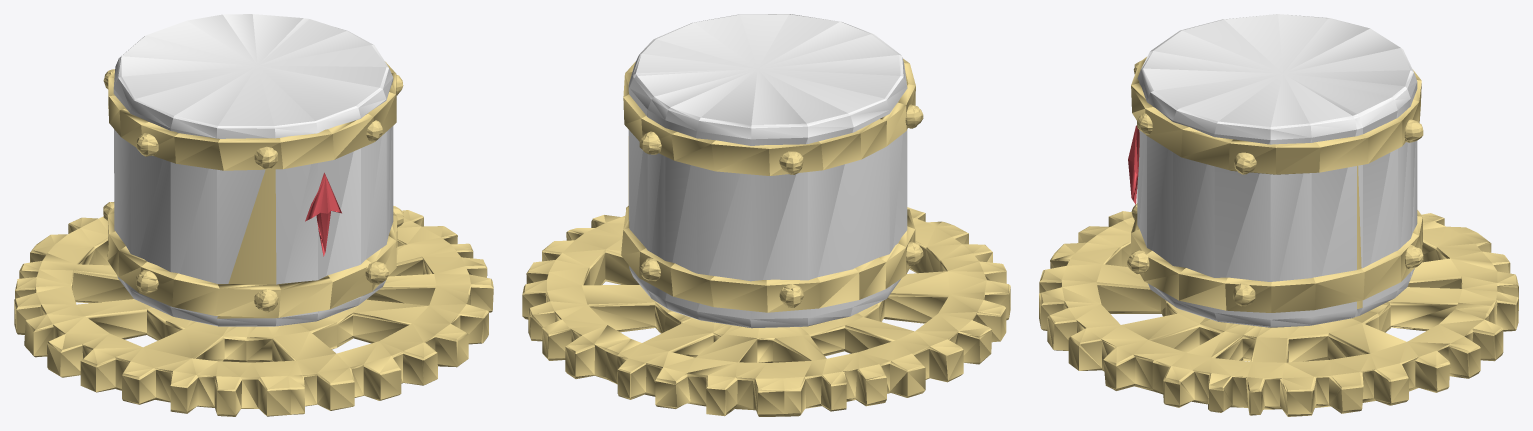
File: plinth_top.glb
3 renders of one model, left to right at view 1: azimuth 30°, elevation 25°; view 2: azimuth 150°, elevation 25°; view 3: azimuth 270°, elevation 25°, orthographic.
Visible parts, largest first — view 1: top; view 2: top; view 3: top.
Part boxes in pixels (x1,y1,x2,y2): top: (14,14,493,416); top: (522,14,1010,416); top: (1039,14,1518,416).
Size of the model in its own units: 0.8308 by 0.4707 by 0.8271.
